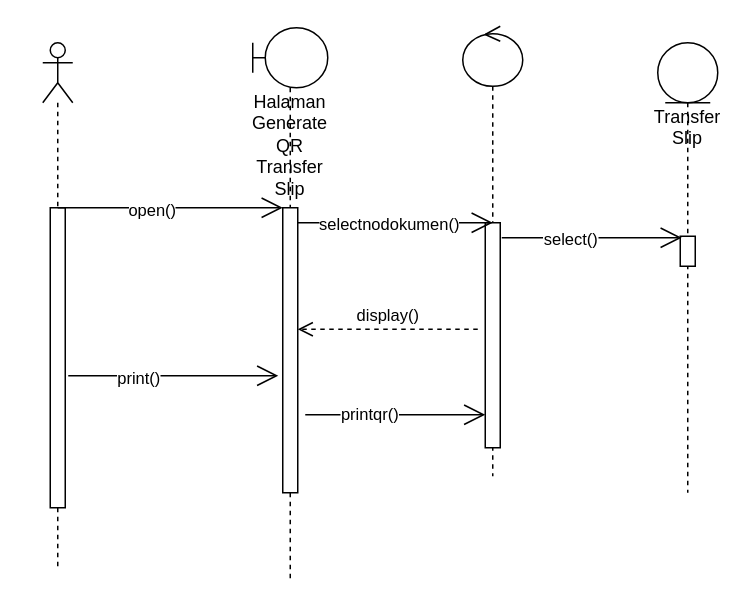
Image size: 747x609. Some labels were removed from this diagram. The shapes that lost their labels are listed below. From the top down, each one's box as (x1, y1, x2, y2) in pixels, then its label:
(461, 25, 523, 476): Control Generate QR Transfer Slip
(41, 41, 73, 568): Gudang
